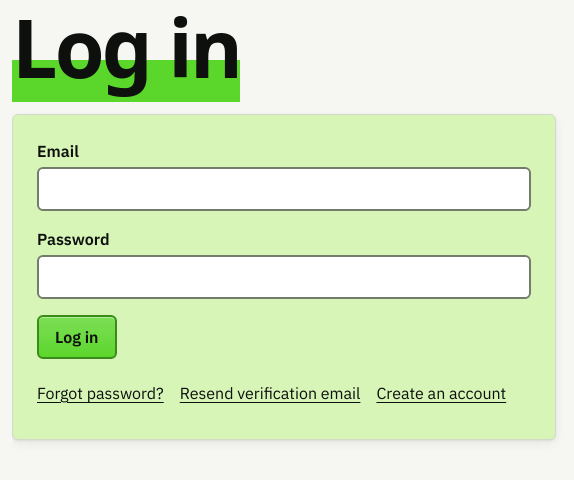
it: the outcomes › a paused account: shows the message and stays on the page
Type "owner@example.test" into the field labelled "Email" at x=284, y=189, box [37, 167, 531, 211]
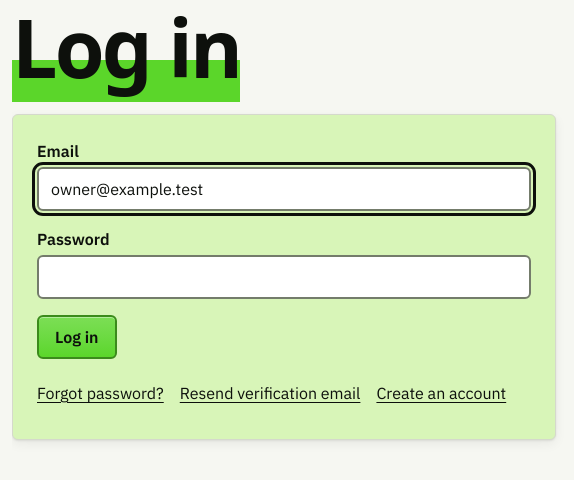
Type "the-right-password-1" into the password field labelled "Password" at x=284, y=277, box [37, 255, 531, 299]
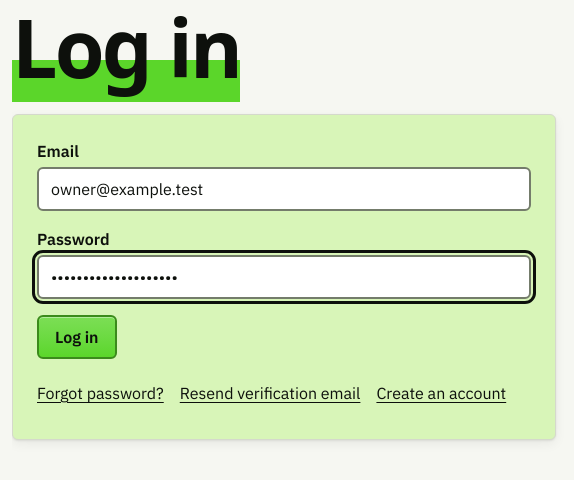
Click the button "Log in" at x=77, y=337, box [37, 315, 116, 359]
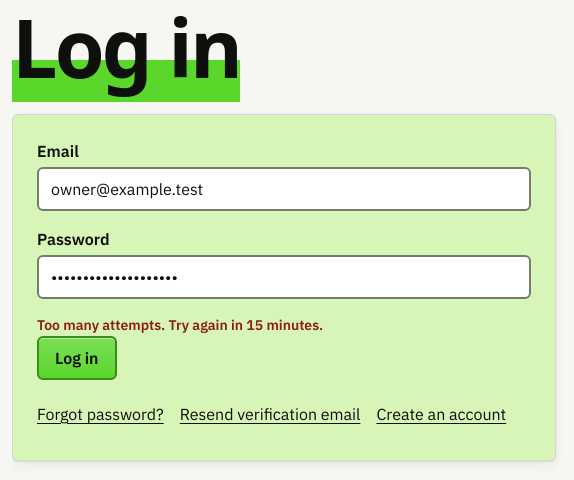
Expected: the message reads "Too many attempts. Try again in 15 minutes.", [37, 316, 323, 334]
